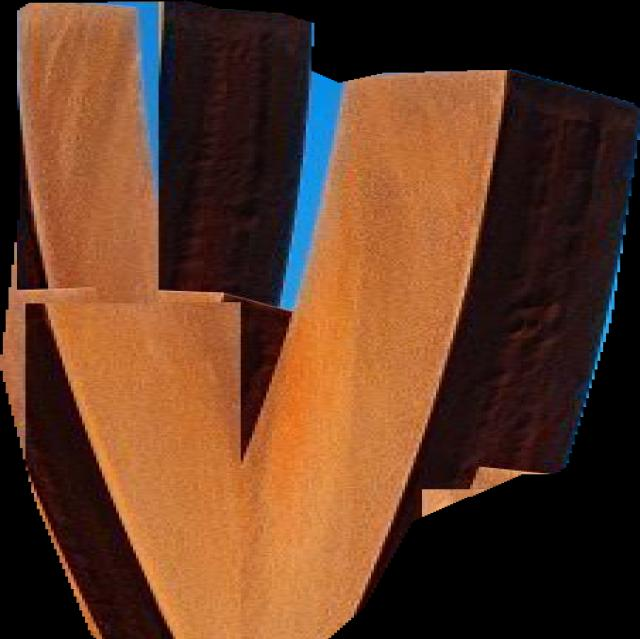Uniform Corrosion: (0, 0, 640, 639)
